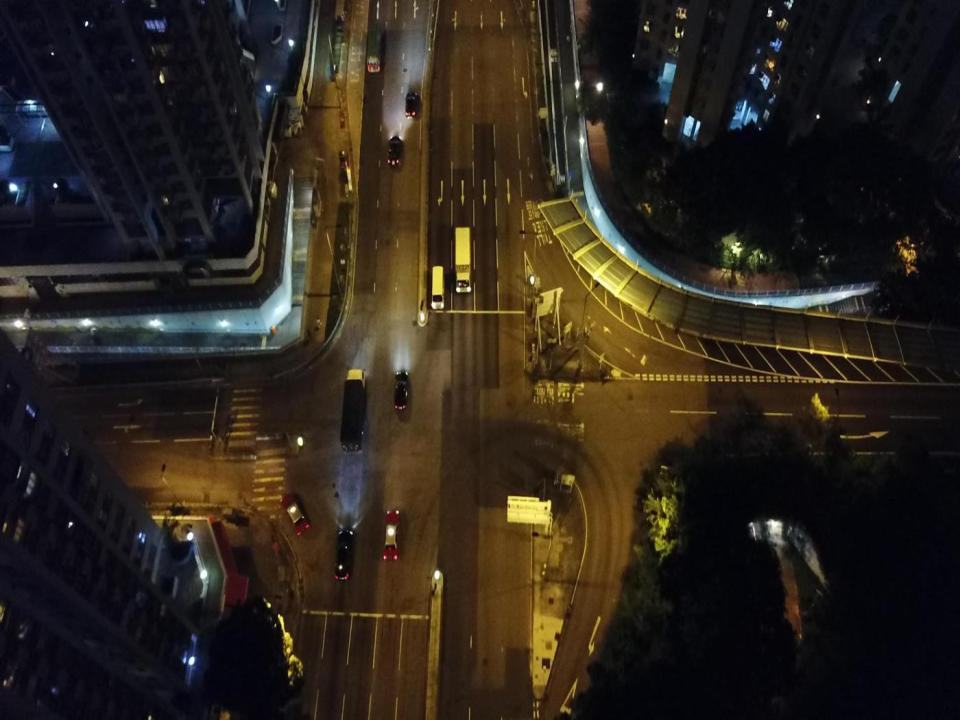bus: (366, 25, 382, 73)
car: (281, 492, 310, 536), (334, 528, 355, 582), (382, 509, 400, 561), (393, 370, 410, 409), (386, 136, 403, 166), (404, 89, 419, 118)
truck: (340, 368, 366, 452), (453, 226, 472, 292)
van: (430, 265, 445, 310)
